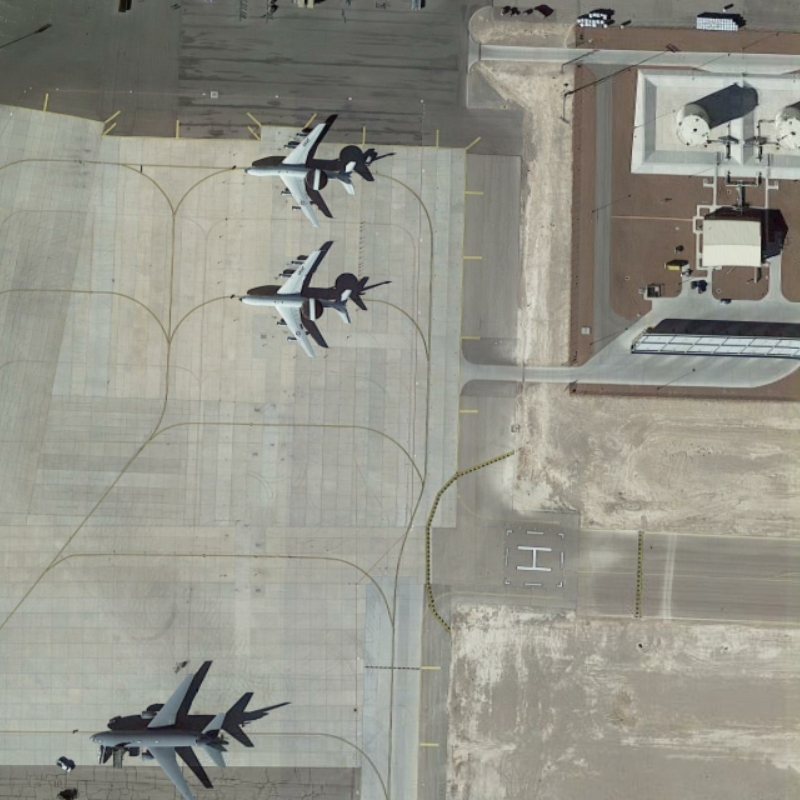A18: (81, 651, 256, 800)
A7: (232, 236, 371, 361), (237, 111, 374, 233)
